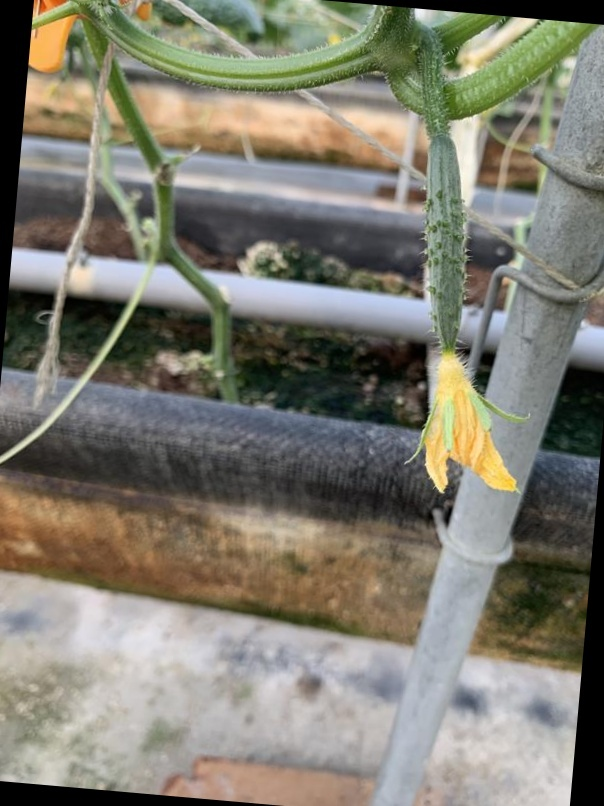bear: (385, 126, 535, 492)
